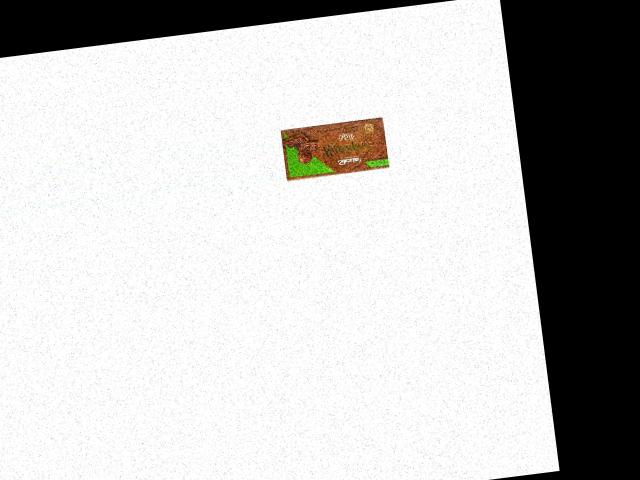chocolate: (279, 114, 393, 185)
